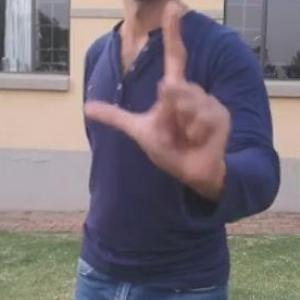land_hand: (85, 0, 241, 185)
